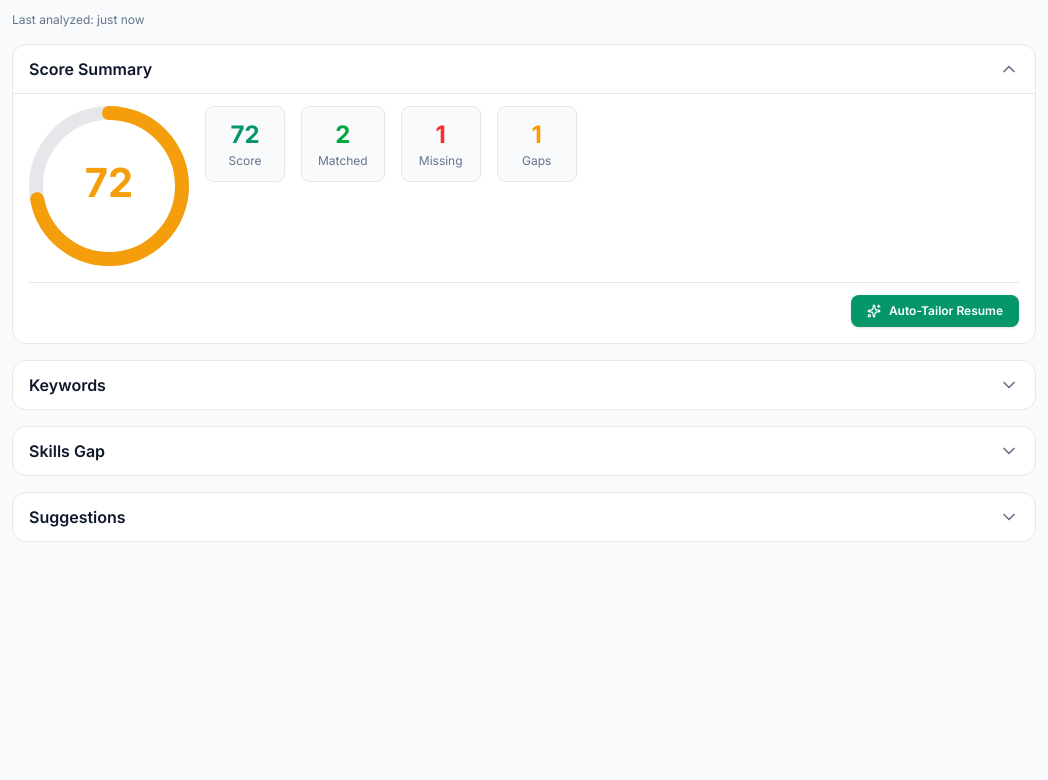
Test: Test 5 – Toggle collapsed section open › clicking the "Keywords" button expands that section
Click the button "Keywords": (67,385) top-left (13, 361), bottom-right (1035, 409)
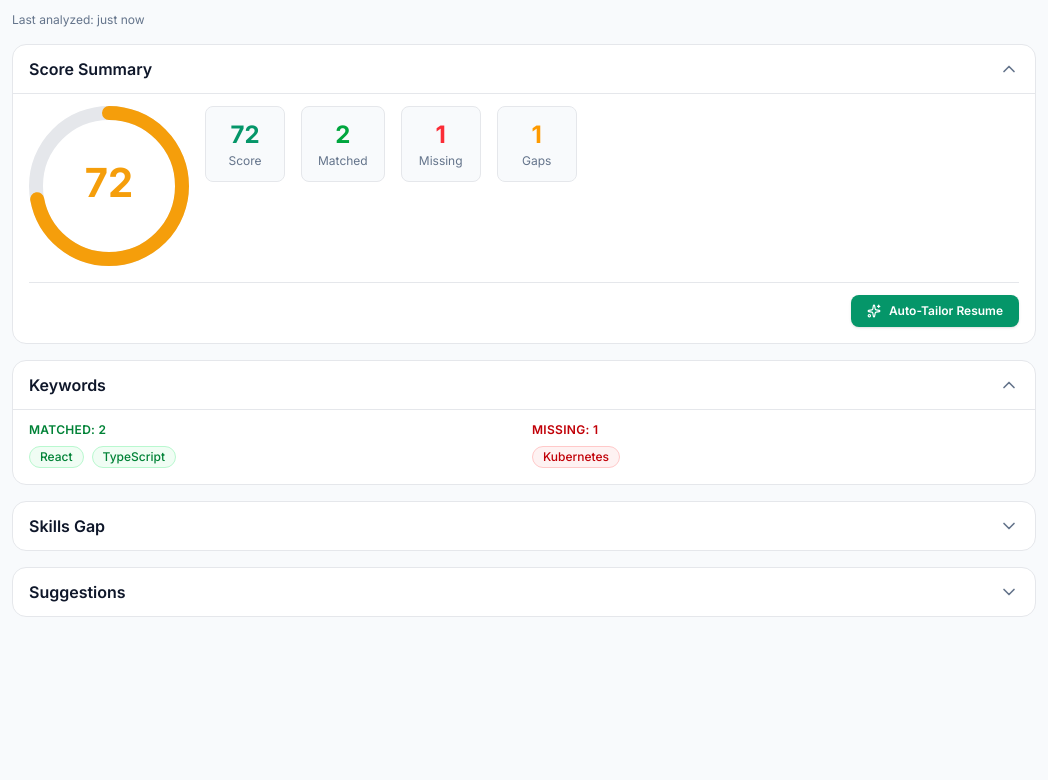
Expected: the button "Keywords" is expanded, top-left (13, 361), bottom-right (1035, 409)
